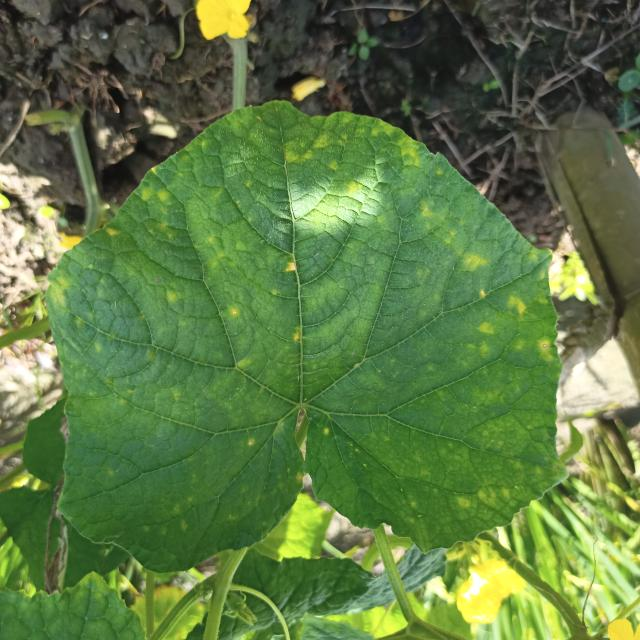disease_cucumber: (403, 193, 559, 515), (134, 106, 400, 282), (37, 261, 89, 337), (157, 291, 176, 303), (226, 306, 240, 319), (291, 331, 303, 345)
